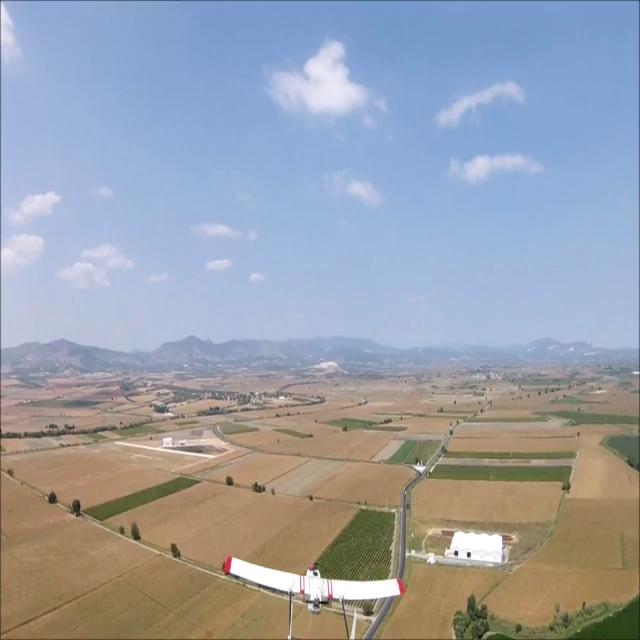iha: (214, 547, 410, 605), (250, 276, 265, 279)
